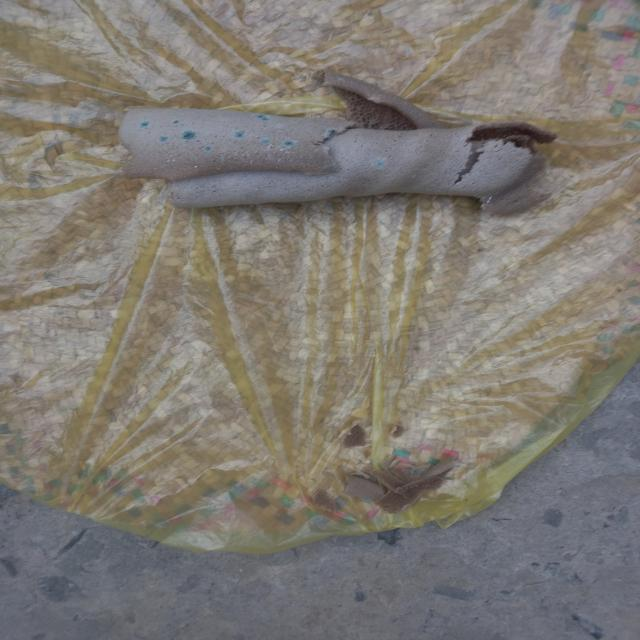injera_mold: (326, 128, 338, 138), (182, 131, 195, 140), (255, 114, 269, 121), (233, 130, 245, 138), (323, 164, 334, 172), (374, 160, 384, 168), (158, 136, 168, 142), (283, 141, 295, 146), (142, 121, 150, 128), (486, 196, 493, 204), (204, 146, 212, 151), (261, 139, 271, 143), (324, 148, 330, 154), (337, 77, 344, 82), (172, 120, 180, 124), (220, 156, 224, 162), (276, 124, 282, 127), (284, 151, 290, 154), (249, 160, 253, 164), (166, 159, 170, 163), (246, 153, 250, 157), (193, 165, 198, 168), (369, 98, 374, 101), (231, 154, 238, 156), (375, 100, 378, 104), (257, 162, 260, 165), (278, 159, 282, 161), (268, 155, 272, 157), (172, 159, 175, 161), (280, 149, 286, 150), (276, 166, 279, 168), (218, 168, 220, 170), (247, 161, 248, 163), (290, 160, 292, 161), (234, 158, 236, 158)
